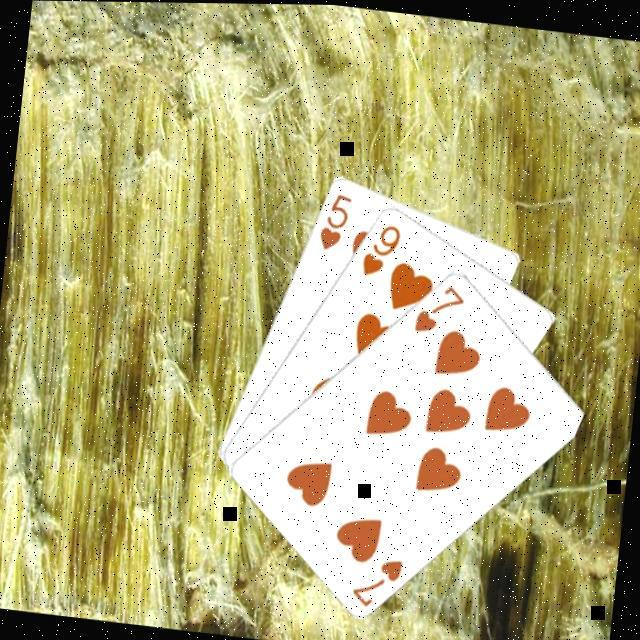5H: (315, 188, 356, 256)
7H: (348, 551, 408, 614), (410, 278, 470, 340)
9H: (358, 218, 406, 282)
